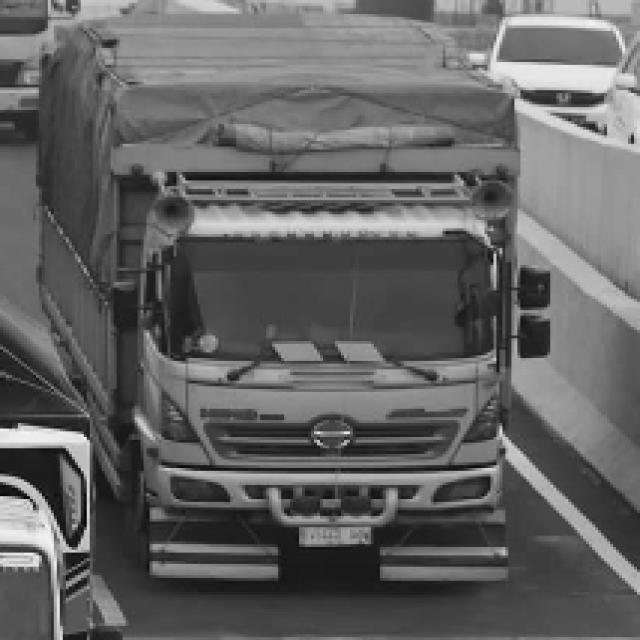Truck: (62, 2, 574, 604)
